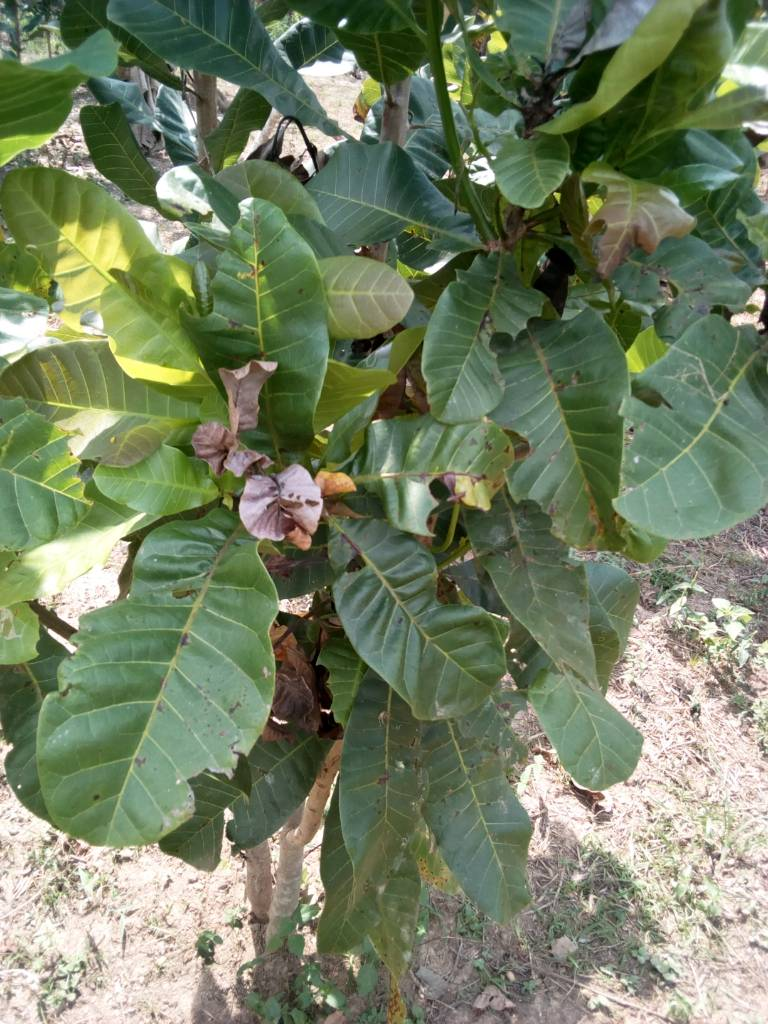Dessèchement des bourgeons: (499, 59, 567, 127)
